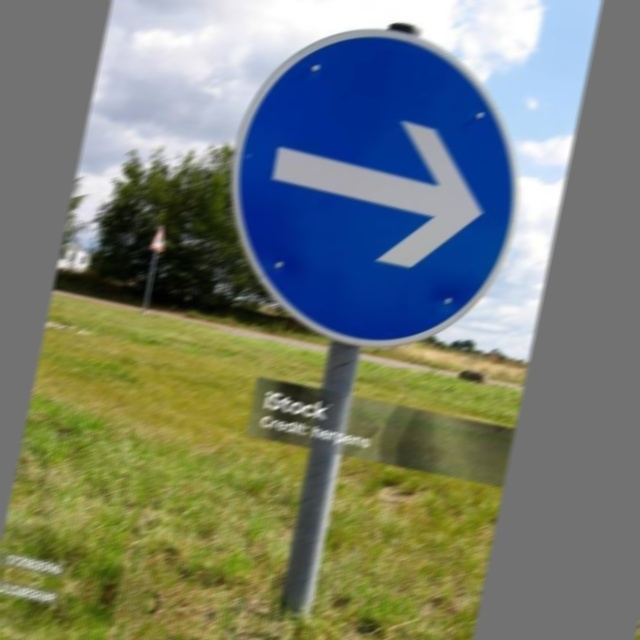Compulsory_Turn_Right: (205, 5, 551, 366)
